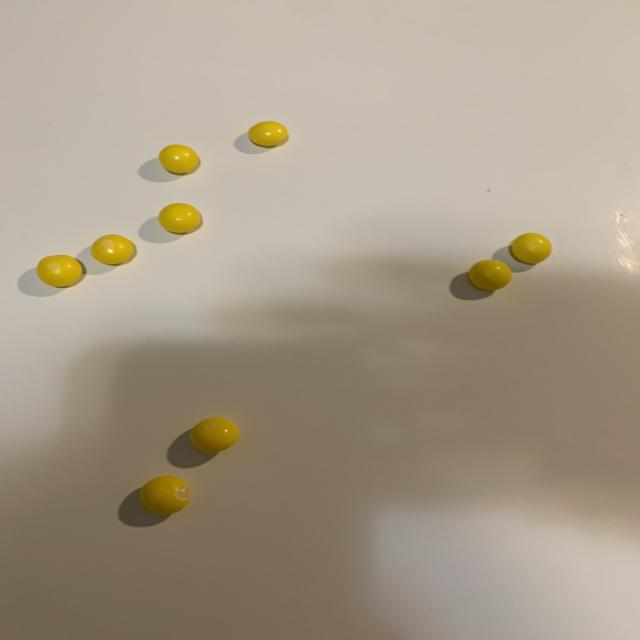smartie: (139, 476, 189, 516), (189, 418, 238, 453), (36, 255, 81, 287), (469, 259, 512, 291), (512, 232, 553, 264), (157, 203, 200, 233), (90, 234, 133, 264), (158, 144, 199, 173), (247, 120, 288, 146)
